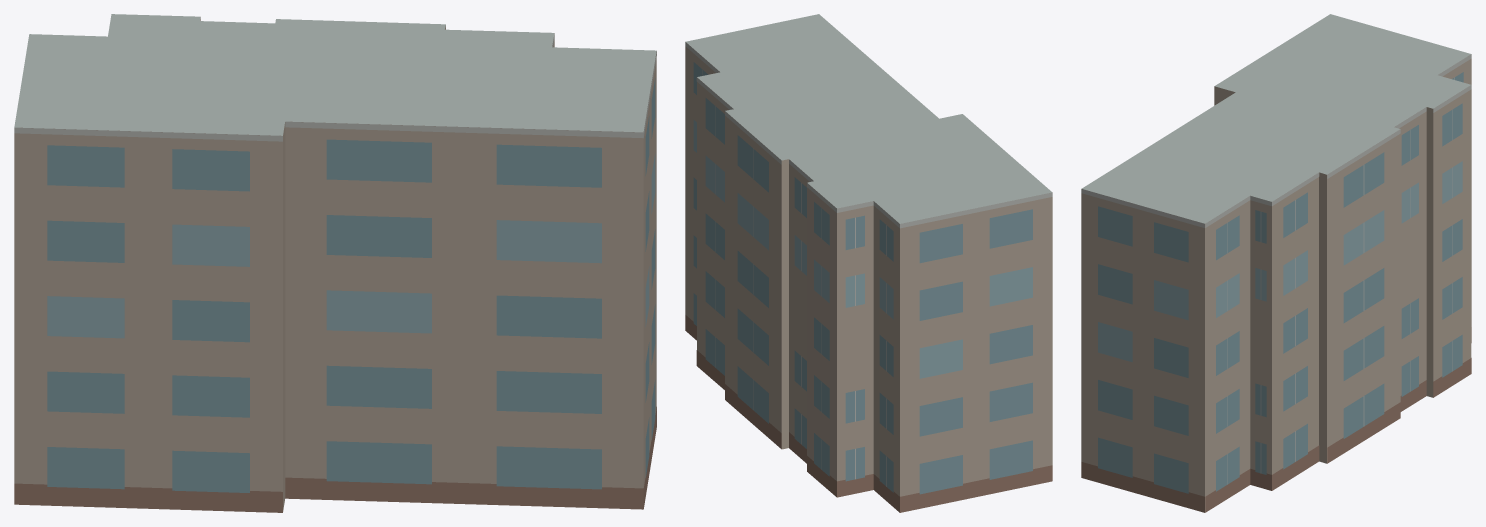
File: survey-upis-32912819.glb
3 renders of one model, left to right at view 1: azimuth 30°, elevation 25°; view 2: azimuth 150°, elevation 25°; view 3: azimuth 270°, elevation 25°, orthographic. The views are drawn at different scales.
Visible parts, largest first — view 1: survey-upis-32912819.tmp; view 2: survey-upis-32912819.tmp; view 3: survey-upis-32912819.tmp.
Part boxes in pixels (box(x1,y1,x2,y2)): survey-upis-32912819.tmp: box(14, 14, 656, 512); survey-upis-32912819.tmp: box(685, 14, 1052, 512); survey-upis-32912819.tmp: box(1081, 14, 1471, 512).
Bounding box in the file's own units: 24.76 × 15.9 × 19.45.
